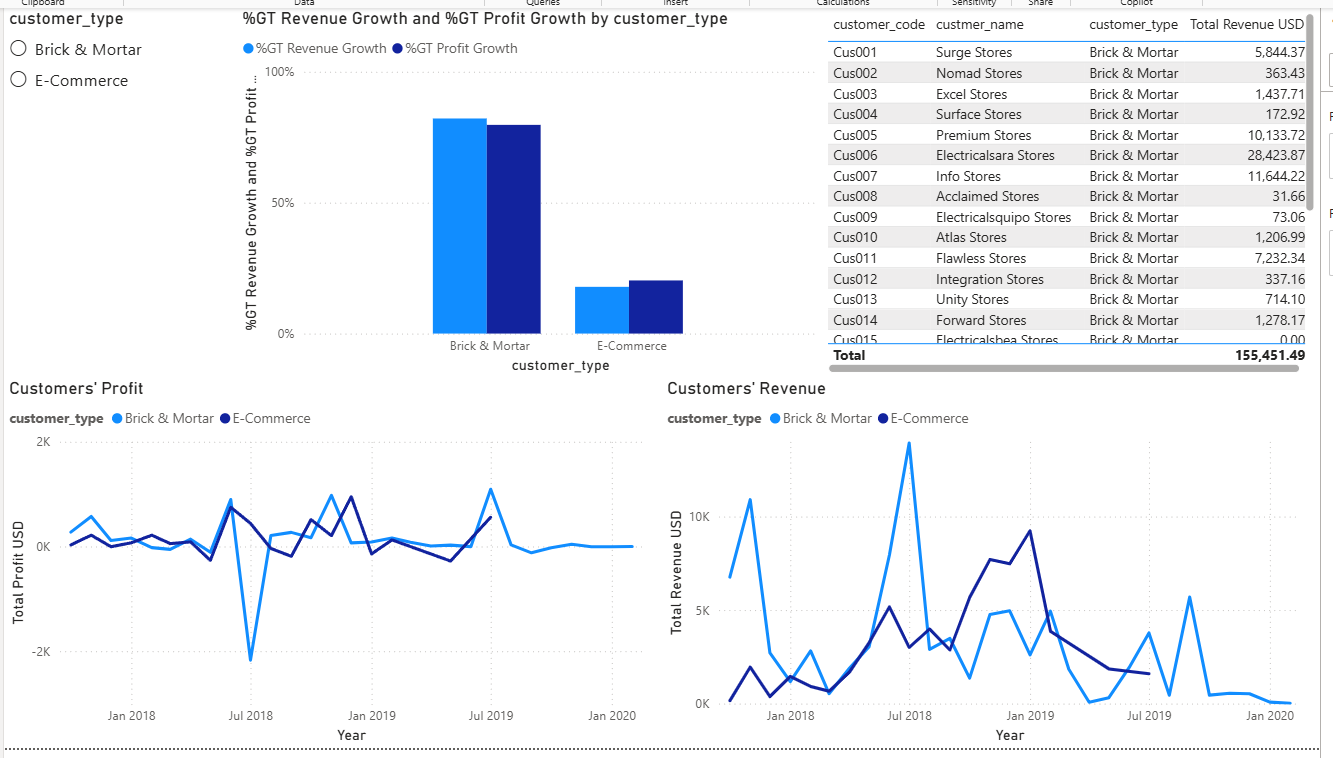

Layout of this report page (visuals, bound fields, positions):
{"tool":"powerbi","page":{"name":"Customer Behavior","canvas":[1280,720],"ordinal":1},"visuals":[{"type":"tableEx","fields":{"Values":["customers.customer_code","customers.custmer_name","customers.customer_type","transactions.Total Revenue USD"]},"box":[796,0,484,360],"z":2000},{"type":"lineClusteredColumnComboChart","fields":{"Category":["customers.customer_type"],"Y":["transactions.Revenue Growth","transactions.Profit Growth"]},"box":[227,0,569,360],"z":3000},{"type":"lineChart","title":"Customers'' Revenue","fields":{"Category":["date.date.Variation.Date Hierarchy.Year","date.date.Variation.Date Hierarchy.Month"],"Y":["transactions.Total Revenue USD"],"Series":["customers.customer_type"]},"box":[640,360,640,360],"z":4000},{"type":"lineChart","title":"Customers'' Profit","fields":{"Category":["date.date.Variation.Date Hierarchy.Year","date.date.Variation.Date Hierarchy.Month"],"Series":["customers.customer_type"],"Y":["transactions.Total Profit USD"]},"box":[0,360,640,360],"z":5000},{"type":"listSlicer","fields":{"Values":["customers.customer_type"]},"box":[0,0,226.6,359.9],"z":6000}]}

Visuals, with their boxes on the page's 1280x720 design canvas (x1, y1, x2, y2). These are canvas units, not pixel positions in the 1333x758 screenshot, which may show the page scaled, cropped or inside an application window:
tableEx - customers.customer_code x customers.custmer_name: (796,0,1280,360)
lineClusteredColumnComboChart - customers.customer_type x transactions.Revenue Growth: (227,0,796,360)
"Customers'' Revenue" lineChart: (640,360,1280,720)
"Customers'' Profit" lineChart: (0,360,640,720)
listSlicer - customers.customer_type: (0,0,227,360)
